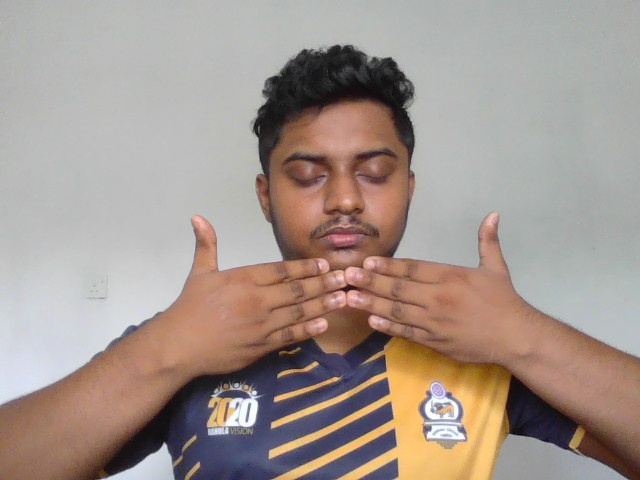Thank You: (164, 207, 518, 386)
